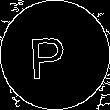P_N: (35, 29, 75, 81)
